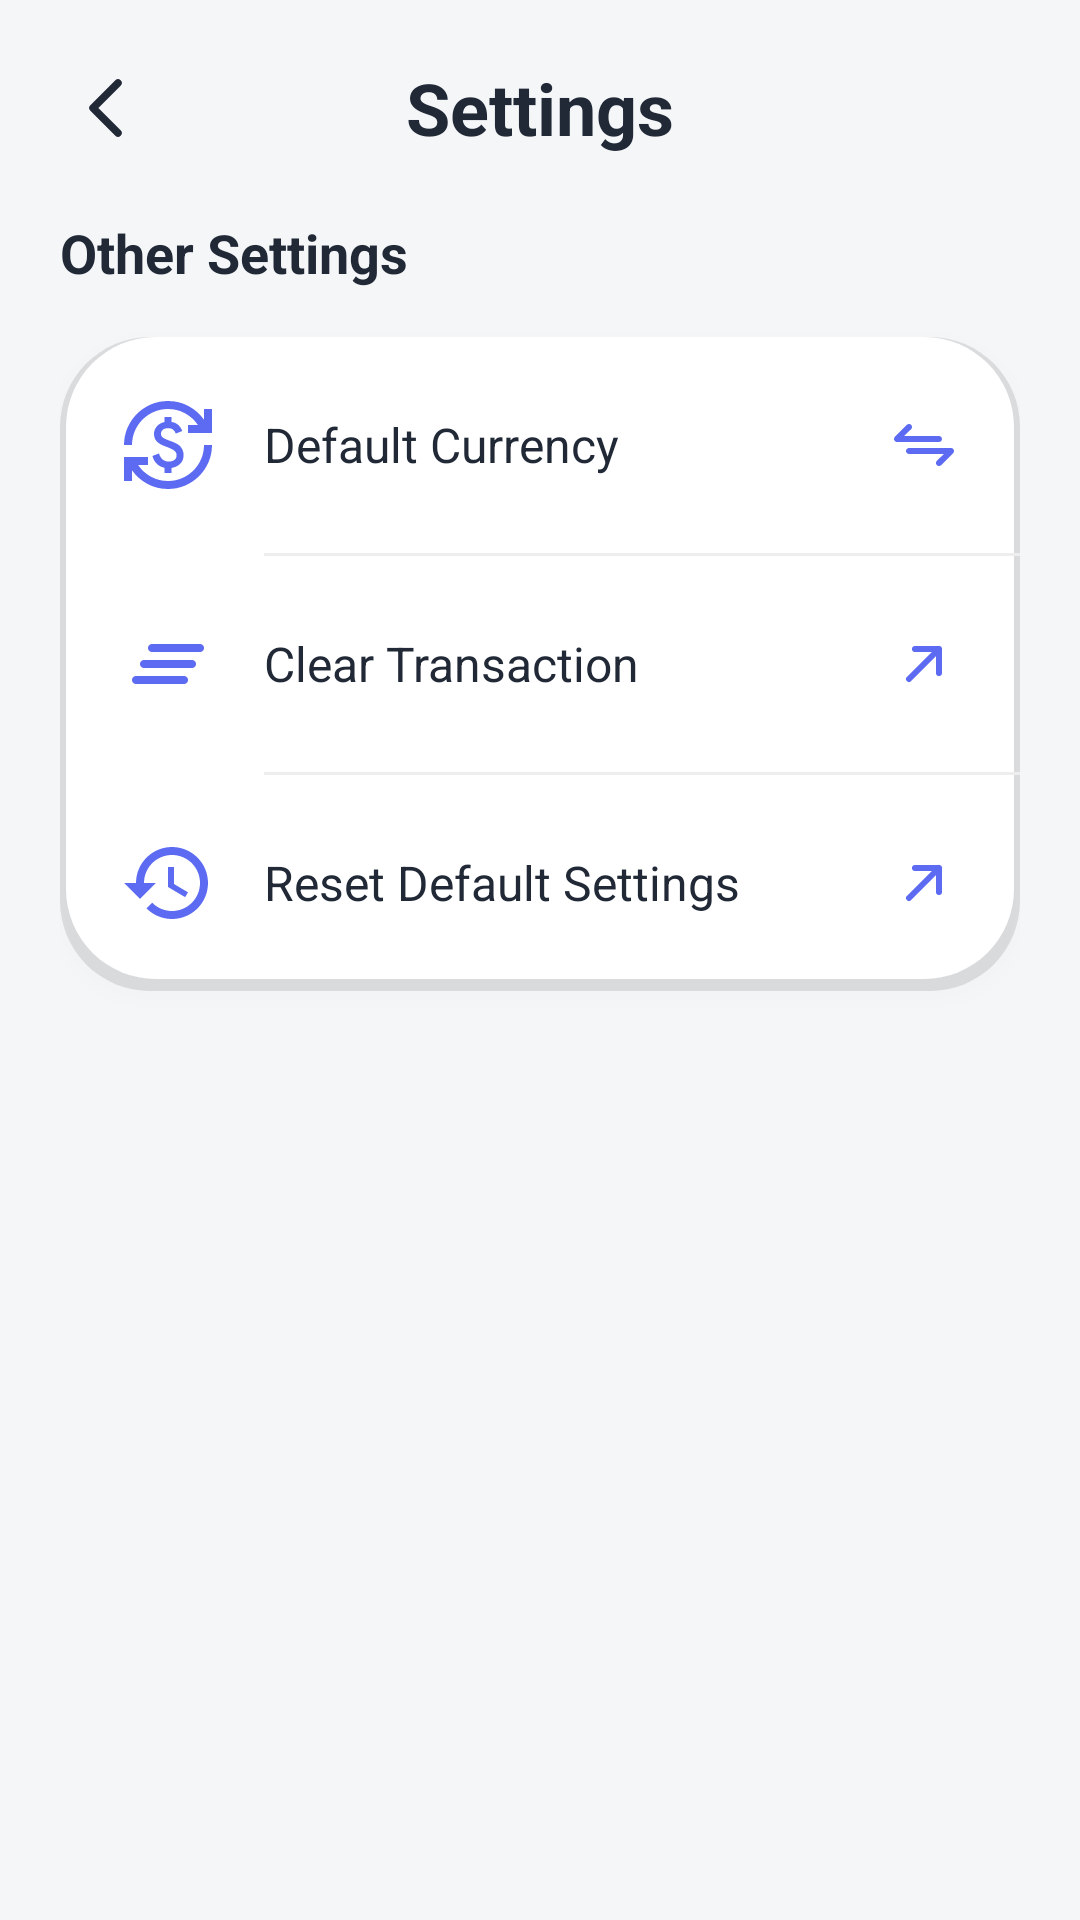

Icon click points for this 1080w x 1920h phone screenshot, format point (x, y):
arrow left: point (105, 108)
arrow up right: point (924, 664), point (924, 883)
def curr: point (168, 445)
exchange: point (924, 445)
restore def: point (166, 883)
